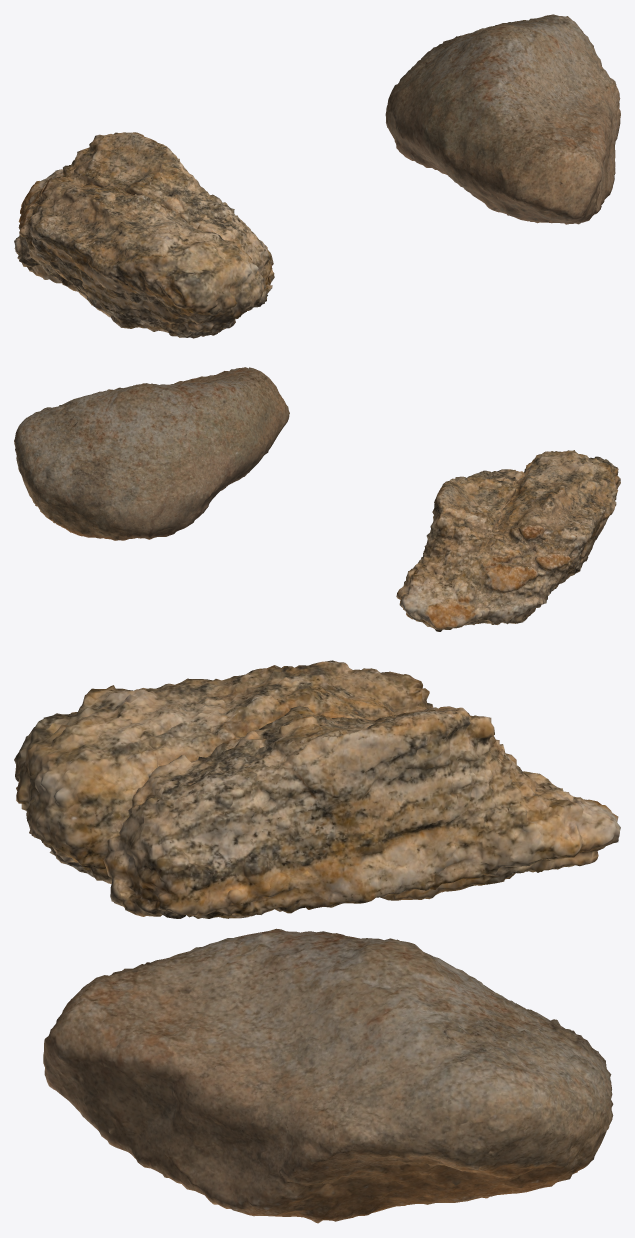
Rendered from namaqualand_boulders_01_1k.gltf.
3 renders of one model, top to bottom at view 1: azimuth 30°, elevation 25°; view 2: azimuth 150°, elevation 25°; view 3: azimuth 270°, elevation 25°, orthographic. The views are drawn at different scales.
Parts seen in each view (by area): view 1: namaqualand_rocks_01_a, namaqualand_rocks_01_b; view 2: namaqualand_rocks_01_a, namaqualand_rocks_01_b; view 3: namaqualand_rocks_01_a, namaqualand_rocks_01_b.
Part boxes in pixels (left/top/right/bottom): namaqualand_rocks_01_a: left=385, top=14, right=620, bottom=224; namaqualand_rocks_01_b: left=14, top=132, right=274, bottom=338; namaqualand_rocks_01_a: left=14, top=367, right=289, bottom=540; namaqualand_rocks_01_b: left=396, top=450, right=620, bottom=631; namaqualand_rocks_01_a: left=43, top=928, right=613, bottom=1223; namaqualand_rocks_01_b: left=14, top=660, right=620, bottom=918.
Bounding box in the file's own units: 1.06 × 0.2516 × 0.5866.
1 material, 1 textured.
